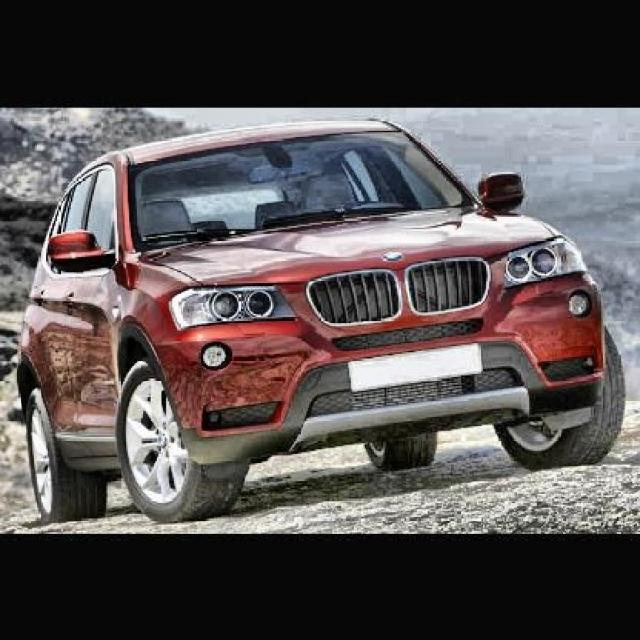maroon: (34, 115, 622, 521)
